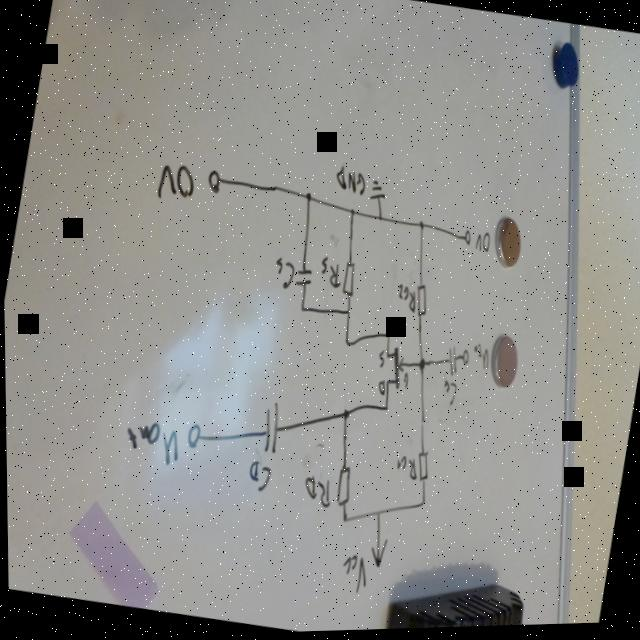capacitor: (252, 401, 284, 458), (441, 347, 460, 379), (292, 267, 313, 291)
ground: (364, 180, 388, 206)
junction: (337, 408, 350, 425), (413, 358, 425, 375), (301, 191, 312, 206), (415, 220, 426, 233), (337, 514, 347, 526), (347, 208, 357, 220), (296, 305, 305, 316), (373, 509, 381, 521), (380, 406, 389, 416), (415, 500, 425, 509), (374, 215, 383, 225), (341, 339, 349, 350), (343, 309, 350, 320), (383, 334, 390, 343)
resistor: (329, 465, 353, 512), (337, 259, 359, 302), (410, 452, 430, 487), (410, 286, 429, 322)
source: (364, 537, 386, 572)
terminal: (181, 422, 202, 452), (204, 168, 223, 197), (460, 232, 472, 251), (458, 351, 470, 369)
text: (119, 417, 181, 469), (153, 162, 197, 205), (335, 555, 369, 597), (298, 474, 333, 512), (332, 165, 368, 199), (243, 459, 272, 496), (315, 257, 344, 291), (391, 284, 418, 317), (270, 257, 295, 292), (391, 455, 418, 484), (467, 342, 490, 374), (438, 380, 457, 409), (471, 232, 492, 257), (373, 351, 384, 372), (374, 380, 386, 398), (398, 374, 409, 393)
transistor: (378, 347, 406, 392)
